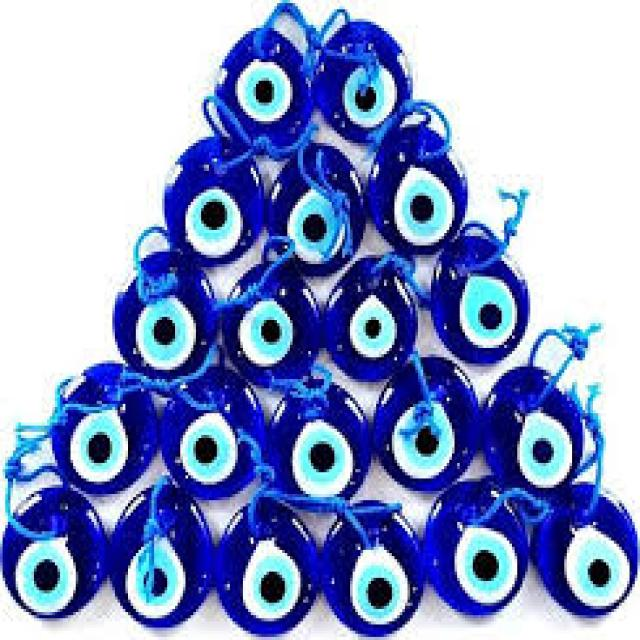Nazar-Boncugu: (428, 227, 530, 370)
